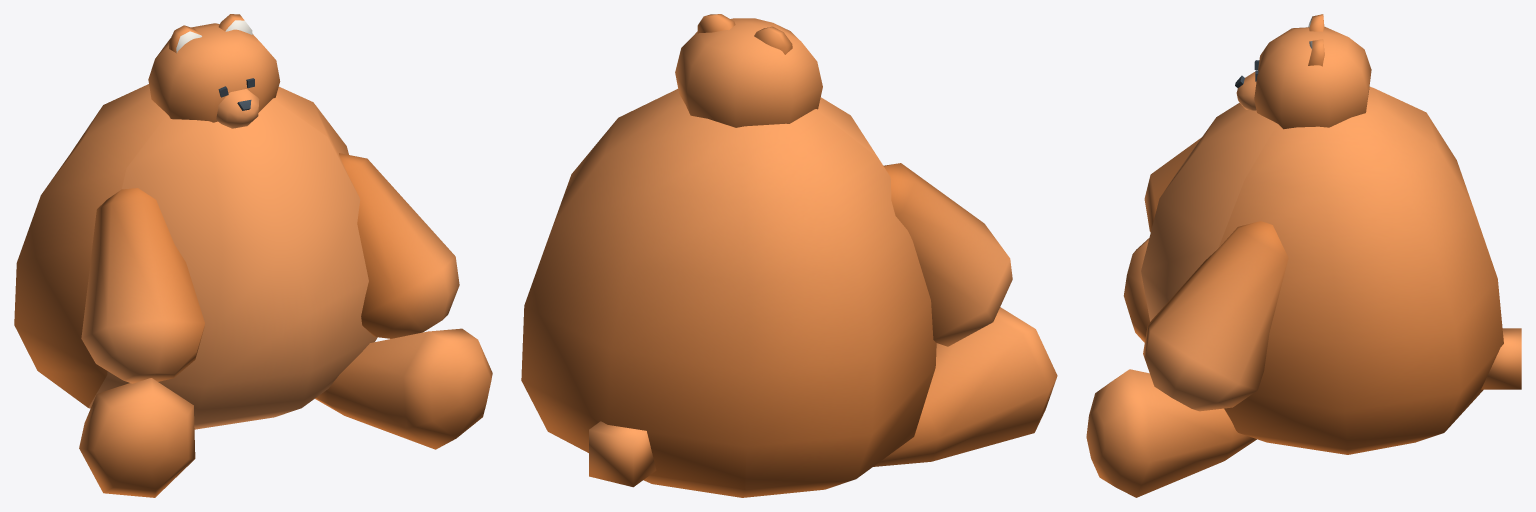
Rendered from Prop_TeddyBear.fbx.
3 renders of one model, left to right at view 1: azimuth 30°, elevation 25°; view 2: azimuth 150°, elevation 25°; view 3: azimuth 270°, elevation 25°, orthographic. The views are drawn at different scales.
Parts seen in each view (by area): view 1: Prop_TeddyBear; view 2: Prop_TeddyBear; view 3: Prop_TeddyBear.
Part boxes in pixels (x1=…): Prop_TeddyBear: x1=14, y1=14, x2=492, y2=497; Prop_TeddyBear: x1=521, y1=14, x2=1057, y2=497; Prop_TeddyBear: x1=1086, y1=14, x2=1521, y2=497.
Bounding box in the file's own units: 584 × 555 × 554.
